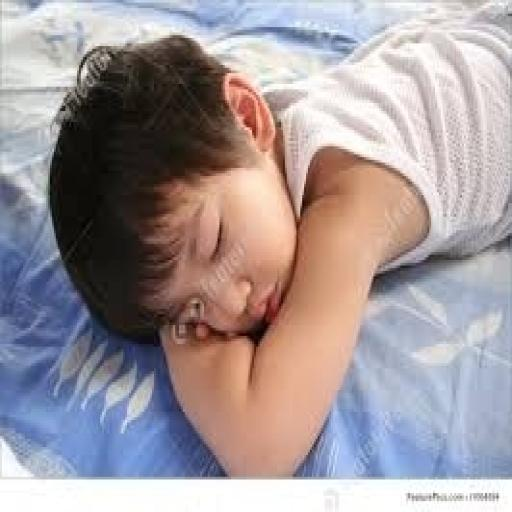sleeping: (44, 2, 510, 476)
